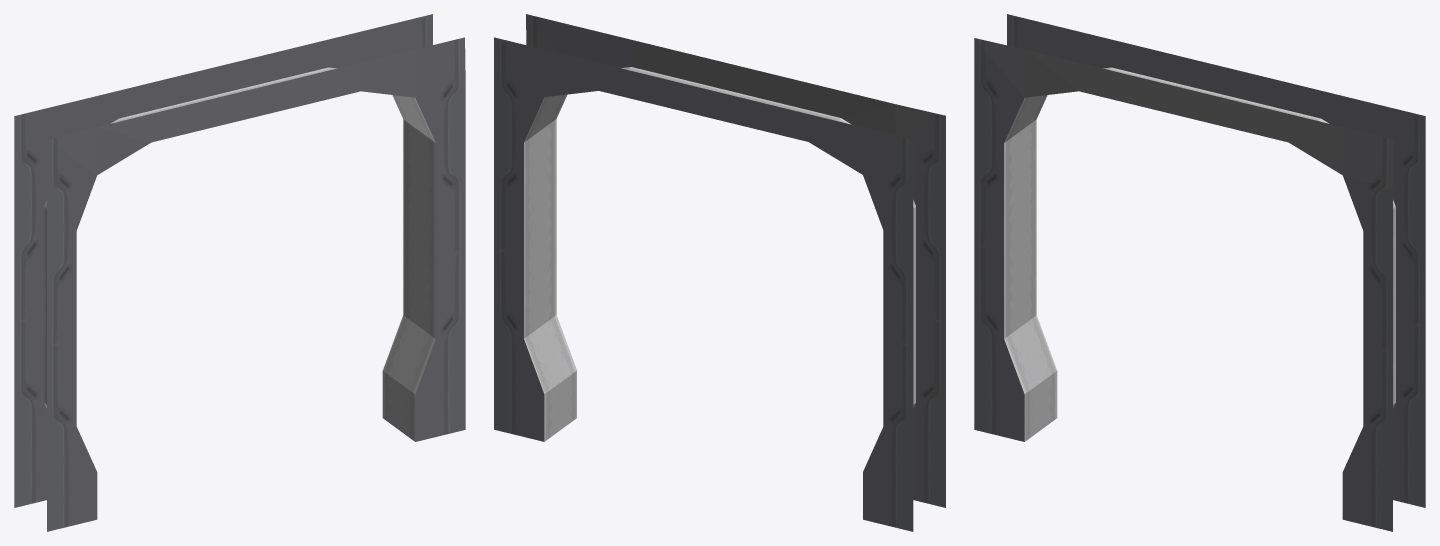
Rendered from mdlArchHub.fbx.
The picture shows the model from 3 angles, left to right: view 1: azimuth 30°, elevation 25°; view 2: azimuth 150°, elevation 25°; view 3: azimuth 330°, elevation 25°; orthographic projection.
Visible parts, largest first — view 1: ArchForHub; view 2: ArchForHub; view 3: ArchForHub.
Part boxes in pixels (x1,y1,x2,y2): ArchForHub: (14,14,465,531); ArchForHub: (494,14,945,531); ArchForHub: (974,14,1425,531).
Size of the model in its own units: 62.55 by 55.92 by 8.44.
1 material, 1 textured.
